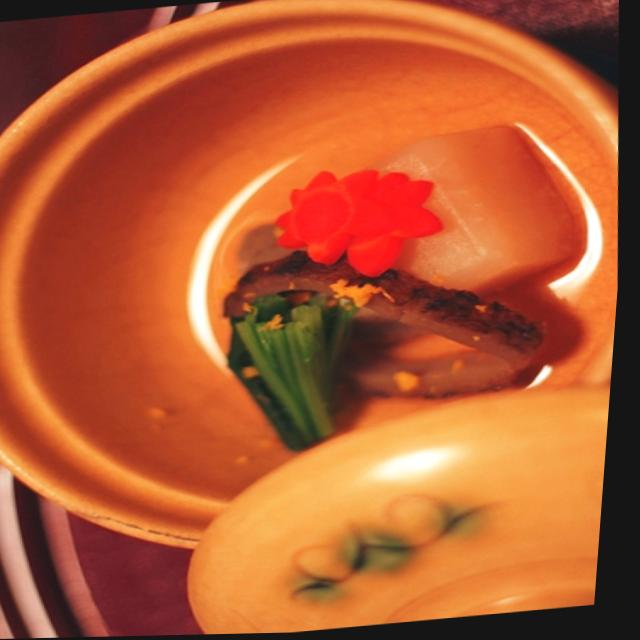豆腐料理: (35, 3, 639, 504)
